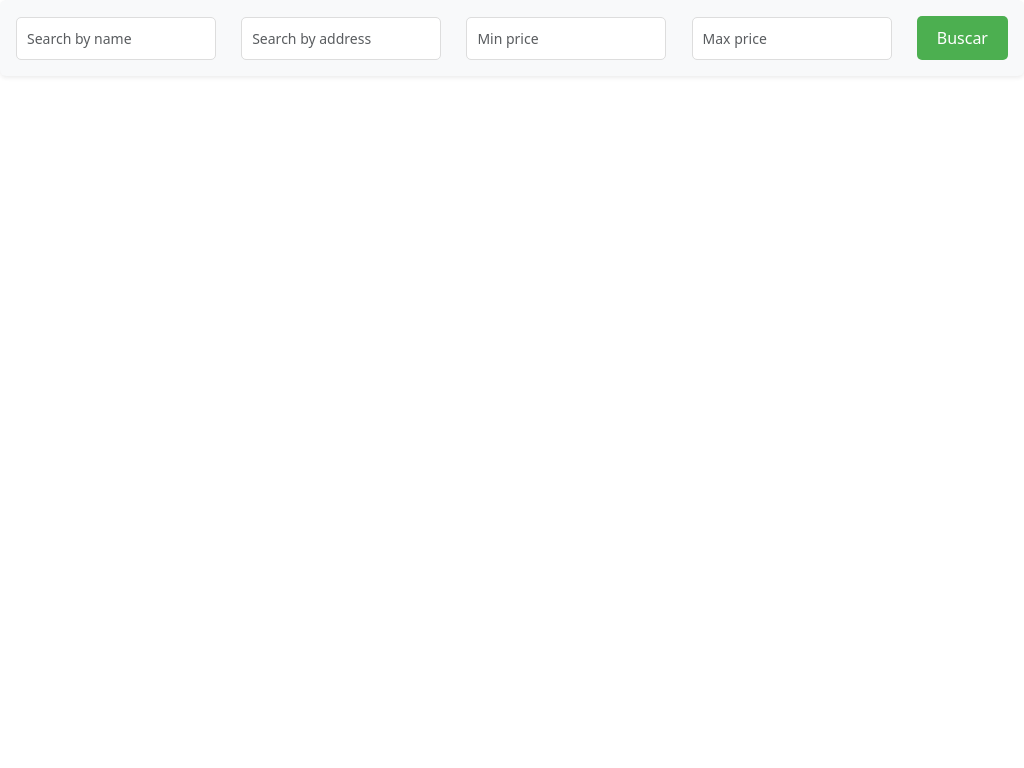
Test case: Filters Component › should close the error modal when the close button is clicked
In the number field with placeholder "Min price": (566, 38) x1=466 y1=16 x2=666 y2=60, type "200"
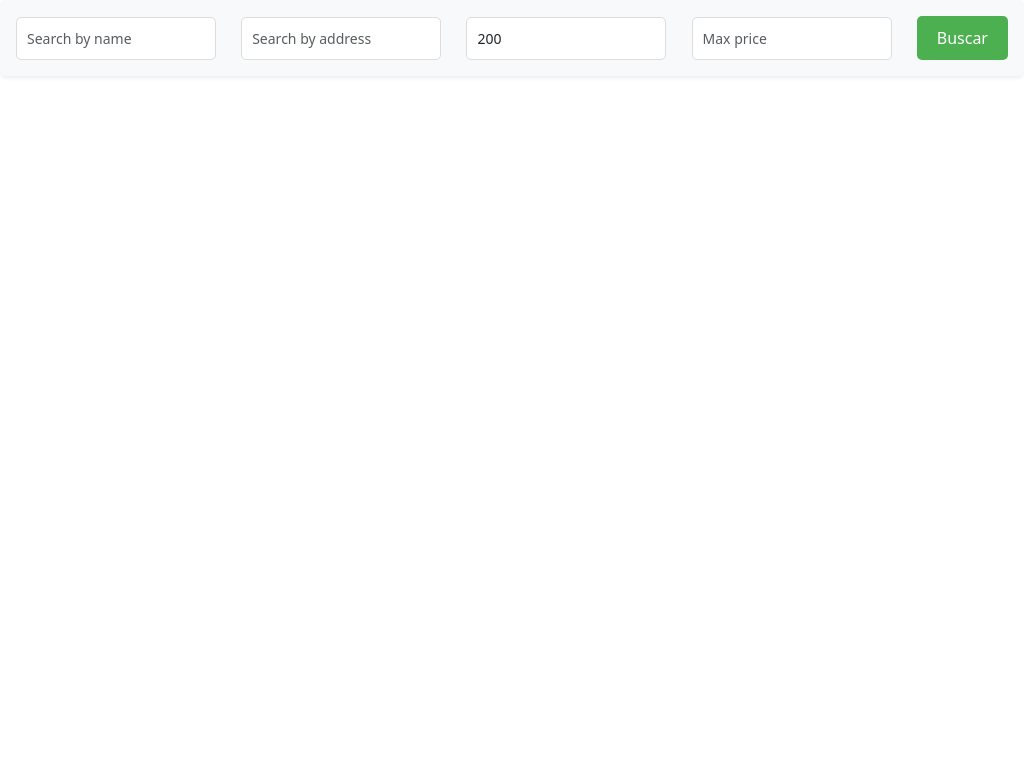
In the number field with placeholder "Max price": (792, 38) x1=692 y1=16 x2=892 y2=60, type "100"
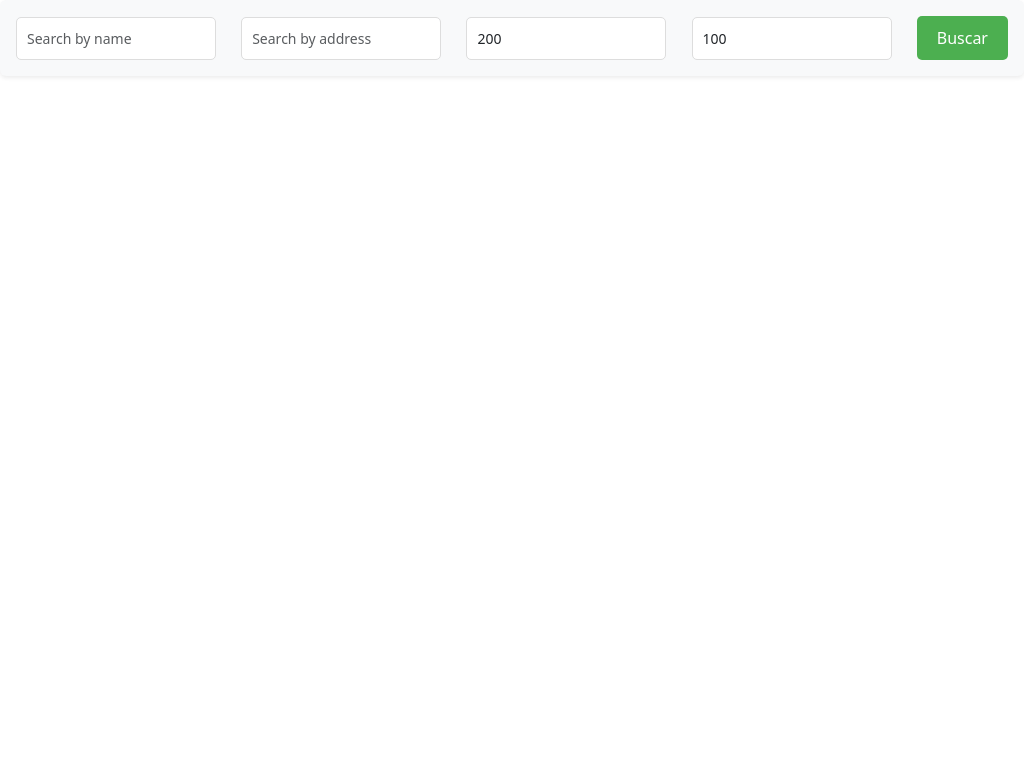
Click the button "Buscar": (962, 38) x1=917 y1=16 x2=1008 y2=60
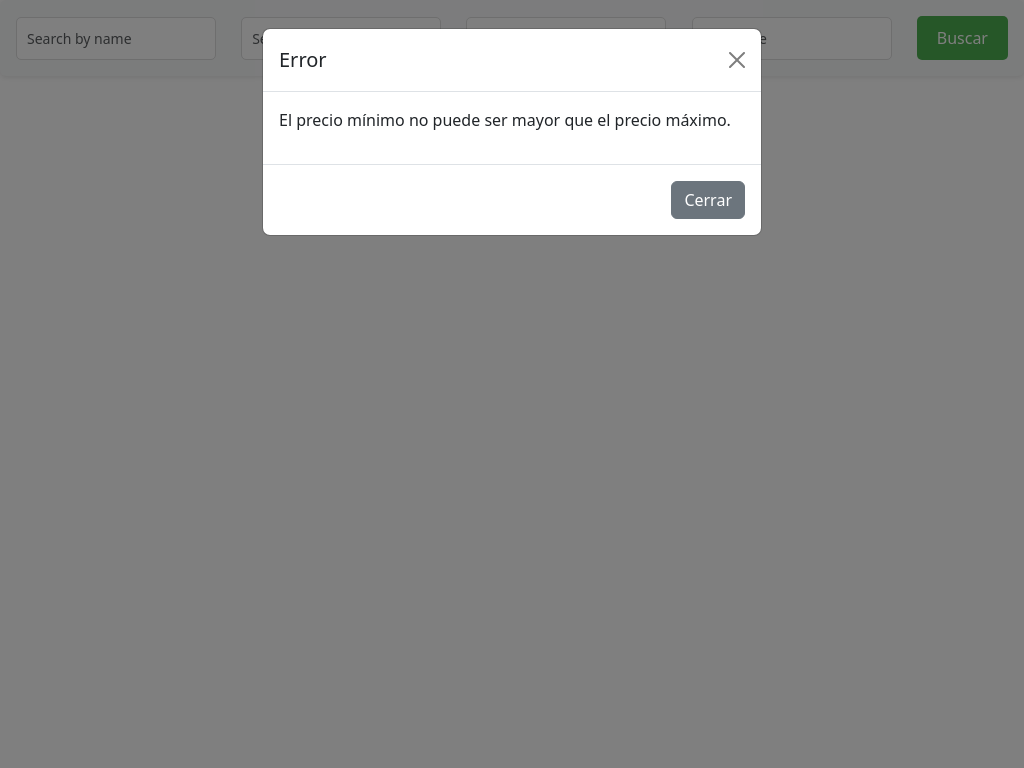
Now the text "El precio mínimo no puede ser mayor que el precio máximo." is shown, box x1=279 y1=108 x2=745 y2=132
Close the modal
Click the button "Cerrar": (708, 200) x1=671 y1=181 x2=745 y2=219
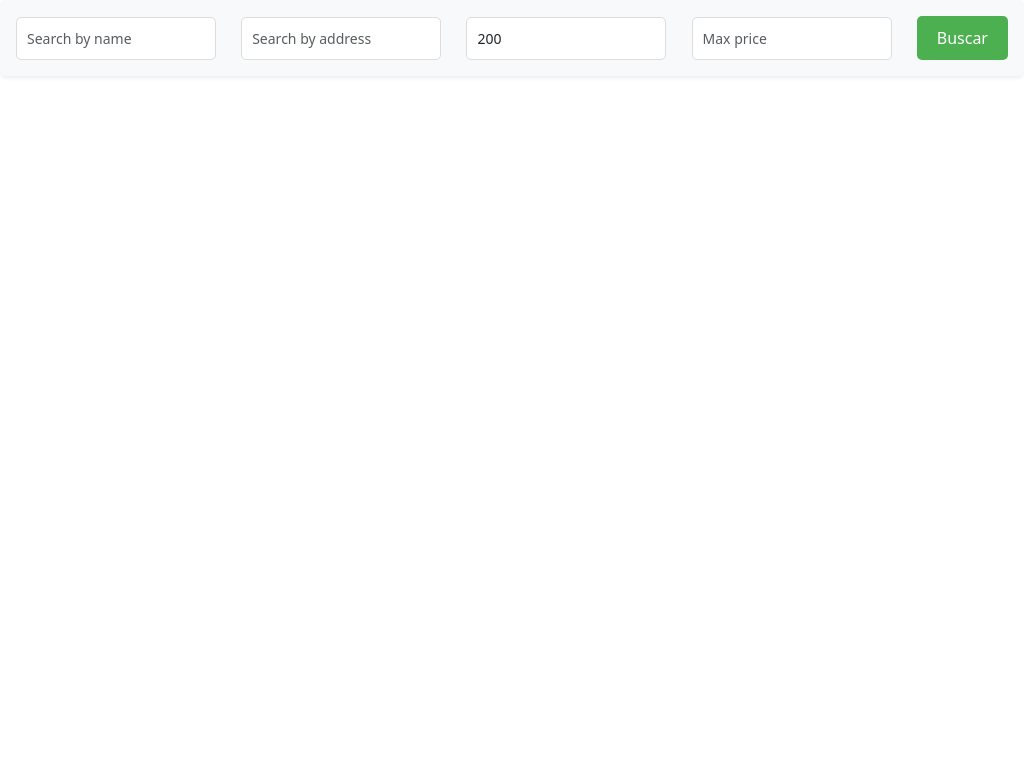
Now the text "El precio mínimo no puede ser mayor que el precio máximo." is gone
